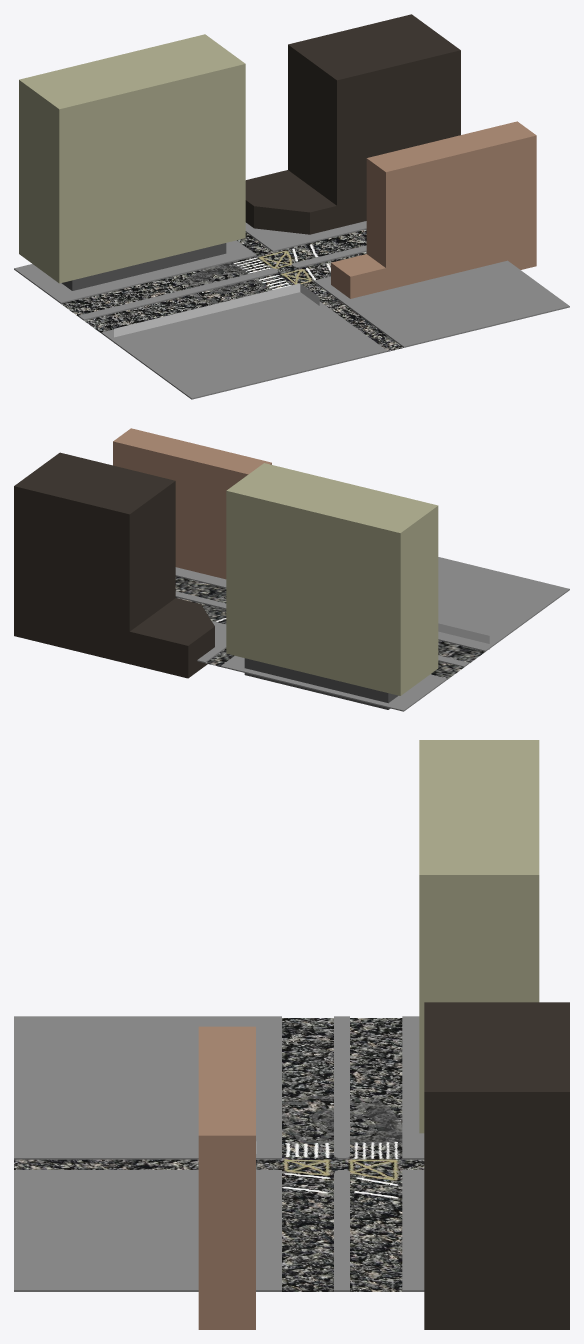
The model's file is 19 con 4a. Primitivo2.glb.
3 renders of one model, top to bottom at view 1: azimuth 30°, elevation 25°; view 2: azimuth 150°, elevation 25°; view 3: azimuth 270°, elevation 25°, orthographic. The views are drawn at different scales.
Visible parts, largest first — view 1: Cube, Plane, Cube.001, Cube.002, Cube.003; view 2: Cube, Cube.001, Plane, Cube.002, Cube.003; view 3: Plane, Cube.001, Cube, Cube.002.
Boxes of the visible parts, bbox=[...] form: Cube: bbox=[19, 34, 245, 290]; Plane: bbox=[14, 221, 569, 399]; Cube.001: bbox=[245, 14, 460, 234]; Cube.002: bbox=[331, 121, 536, 298]; Cube.003: bbox=[114, 283, 319, 343]; Cube: bbox=[226, 463, 438, 709]; Cube.001: bbox=[14, 452, 214, 678]; Plane: bbox=[175, 557, 569, 711]; Cube.002: bbox=[113, 428, 271, 579]; Cube.003: bbox=[438, 623, 489, 649]; Plane: bbox=[14, 1016, 424, 1291]; Cube.001: bbox=[424, 1002, 569, 1329]; Cube: bbox=[419, 740, 539, 1133]; Cube.002: bbox=[198, 1026, 255, 1329].
Size of the model in its own units: 334 by 157 by 266.
Materials: 7 (1 with a texture image).
